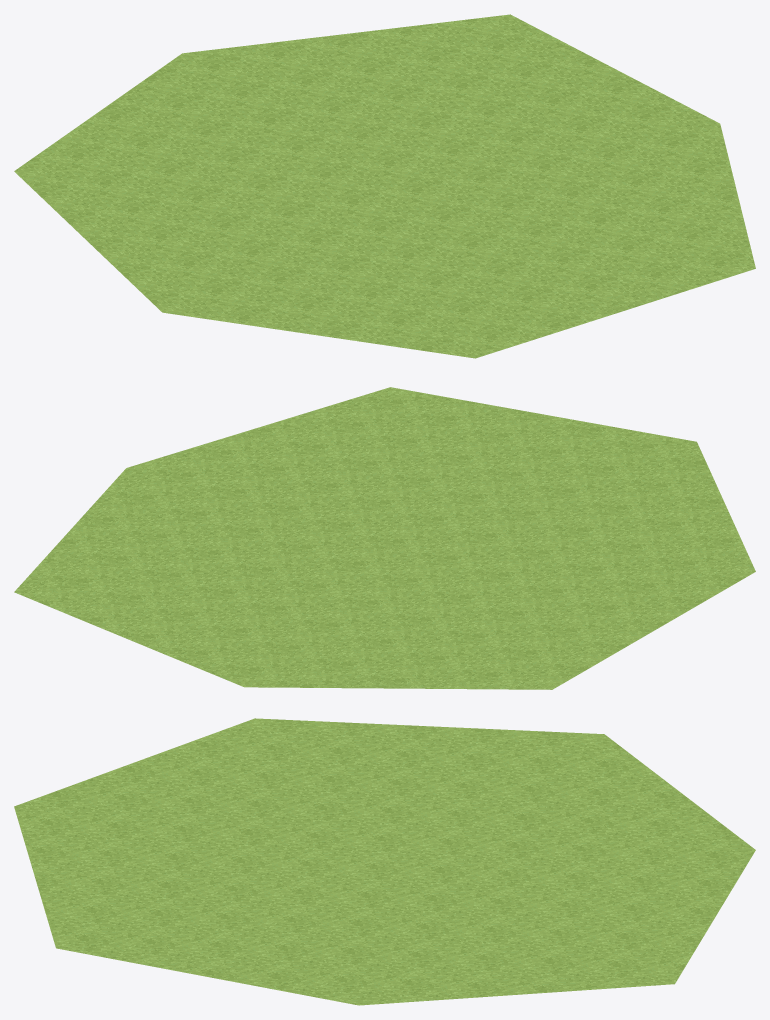
The model's file is kd_stage_1366d7_13_0.glb.
3 renders of one model, top to bottom at view 1: azimuth 30°, elevation 25°; view 2: azimuth 150°, elevation 25°; view 3: azimuth 270°, elevation 25°, orthographic. The views are drawn at different scales.
Parts seen in each view (by area): view 1: kd_stage_1366d7_13_0; view 2: kd_stage_1366d7_13_0; view 3: kd_stage_1366d7_13_0.
Boxes of the visible parts, box(x1,y1,x2,y2) form: kd_stage_1366d7_13_0: box(14, 14, 755, 358); kd_stage_1366d7_13_0: box(14, 387, 755, 689); kd_stage_1366d7_13_0: box(14, 718, 755, 1005).
Size of the model in its own units: 141 by 0 by 154.
Materials: 1 (1 with a texture image).
